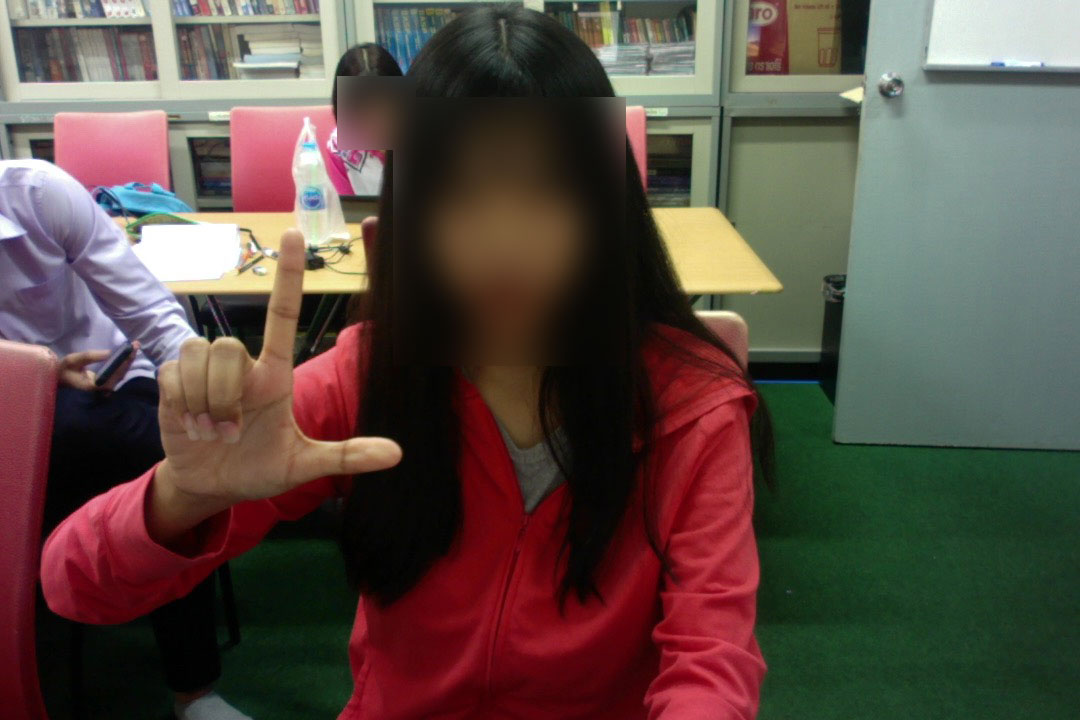lor: (114, 223, 410, 492)
